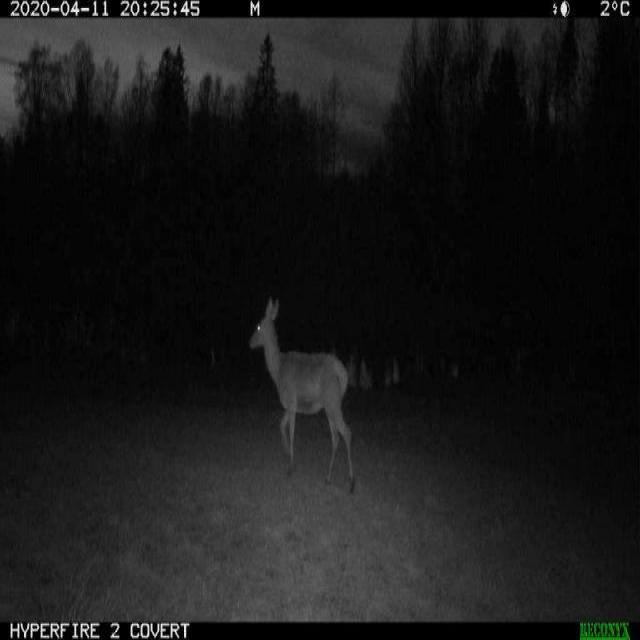deer: (243, 279, 357, 494)
